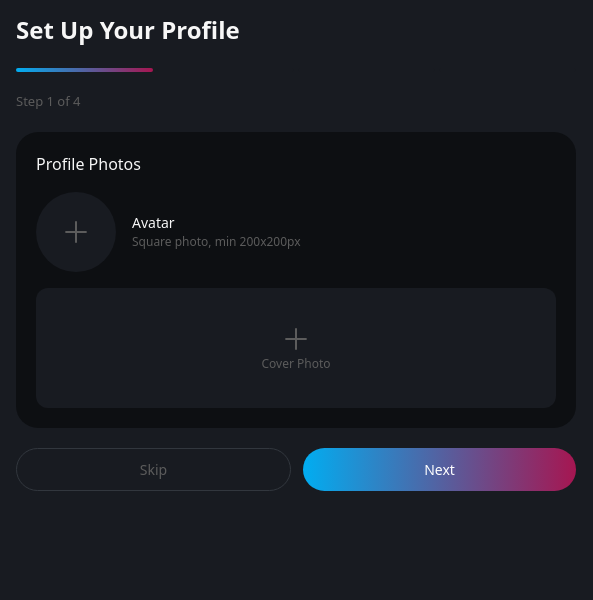
Test: Onboarding page › should go back to step 1 when Back clicked
The width and height of the screenshot is (593, 600).
Click the button "Next" at (440, 469), box x1=303 y1=448 x2=576 y2=490
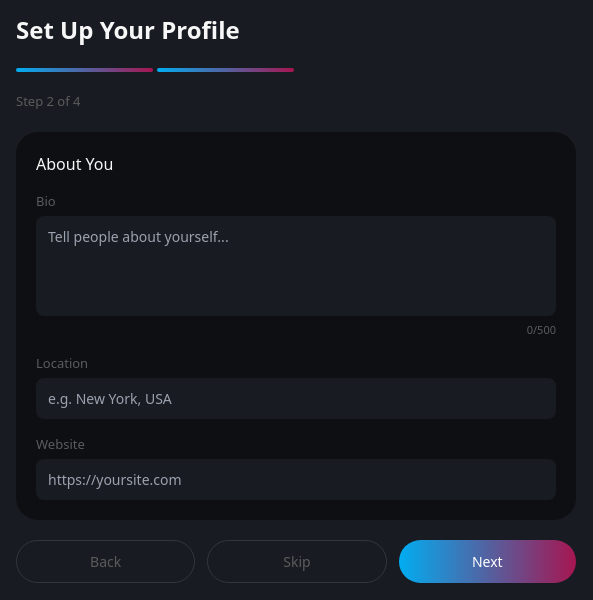
Click the button "Back" at (106, 562), box x1=16 y1=540 x2=195 y2=583
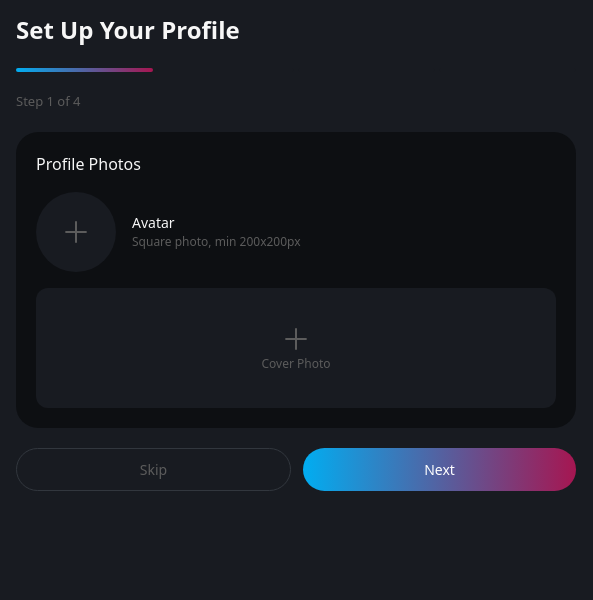
Expected: the text "Step 1 of 4" is shown, x1=16 y1=92 x2=80 y2=110
